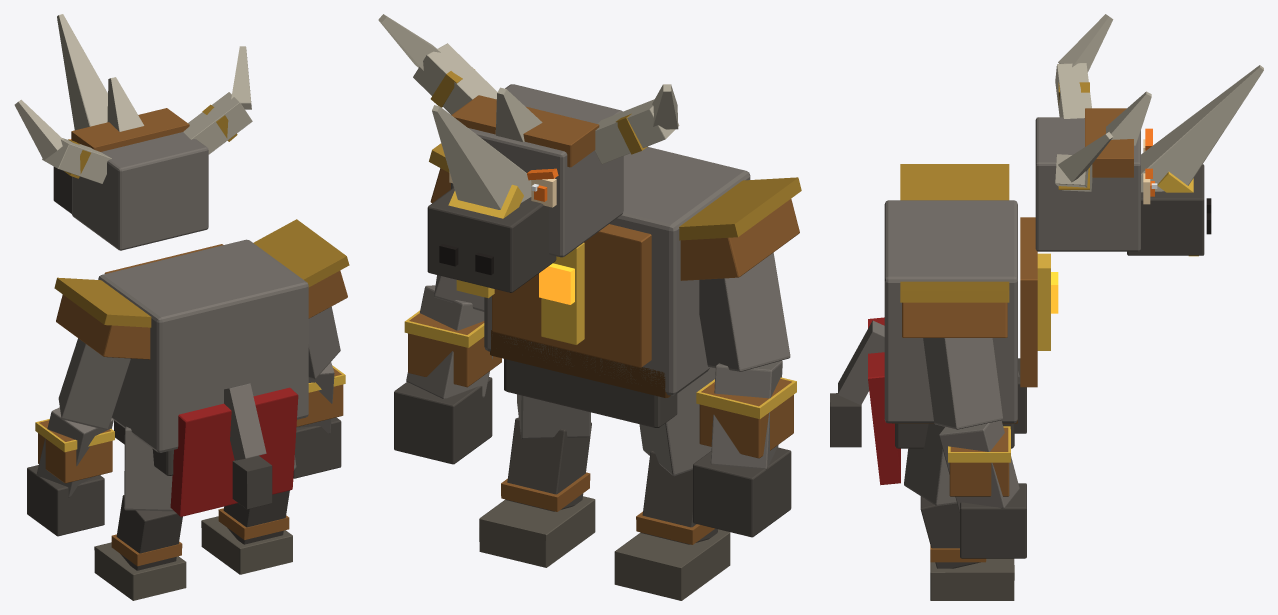
File: rhinotaur.glb
The picture shows the model from 3 angles, left to right: view 1: azimuth 30°, elevation 25°; view 2: azimuth 150°, elevation 25°; view 3: azimuth 270°, elevation 25°; orthographic projection. The views are drawn at different scales.
Visible parts, largest first — view 1: body, head, arm.R, leg.FR, arm.L, leg.FL, tail, ear.L, ear.R; view 2: body, head, arm.R, arm.L, leg.FL, leg.FR, ear.L, ear.R; view 3: body, head, arm.L, leg.FL, tail, ear.R, ear.L.
Boxes of the visible parts, x1=… form: body: x1=54, y1=219, x2=349, y2=516; head: x1=53, y1=14, x2=208, y2=250; arm.R: x1=27, y1=338, x2=130, y2=536; leg.FR: x1=94, y1=426, x2=186, y2=600; arm.L: x1=293, y1=306, x2=345, y2=478; leg.FL: x1=201, y1=455, x2=296, y2=574; tail: x1=224, y1=383, x2=272, y2=509; ear.L: x1=183, y1=46, x2=252, y2=154; ear.R: x1=14, y1=99, x2=111, y2=183; body: x1=429, y1=143, x2=801, y2=427; head: x1=427, y1=84, x2=623, y2=298; arm.R: x1=693, y1=252, x2=796, y2=537; arm.L: x1=394, y1=275, x2=501, y2=464; leg.FL: x1=479, y1=394, x2=595, y2=567; leg.FR: x1=614, y1=367, x2=730, y2=600; ear.L: x1=378, y1=14, x2=497, y2=114; ear.R: x1=594, y1=84, x2=679, y2=164; body: x1=868, y1=164, x2=1058, y2=485; head: x1=1035, y1=65, x2=1263, y2=256; arm.L: x1=923, y1=338, x2=1026, y2=558; leg.FL: x1=904, y1=423, x2=1014, y2=600; tail: x1=830, y1=320, x2=884, y2=447; ear.R: x1=1055, y1=14, x2=1113, y2=118; ear.L: x1=1055, y1=132, x2=1112, y2=191.
Size of the model in its own units: 0.655 by 1 by 0.7981.
